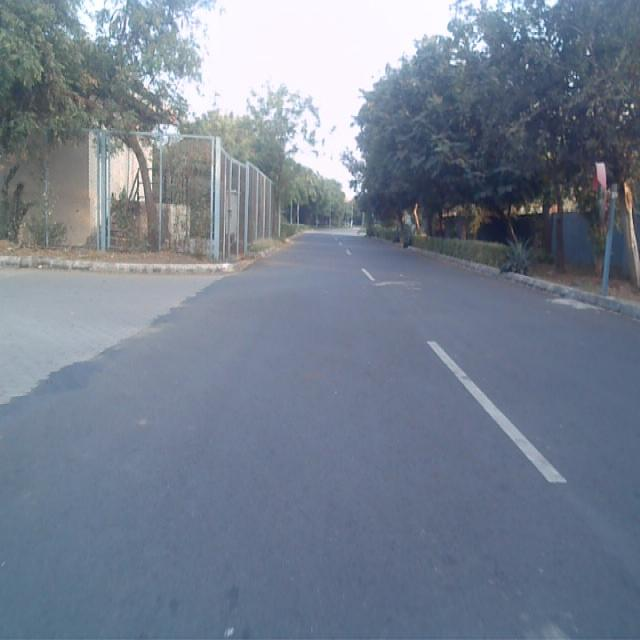lane: (0, 238, 640, 640)
